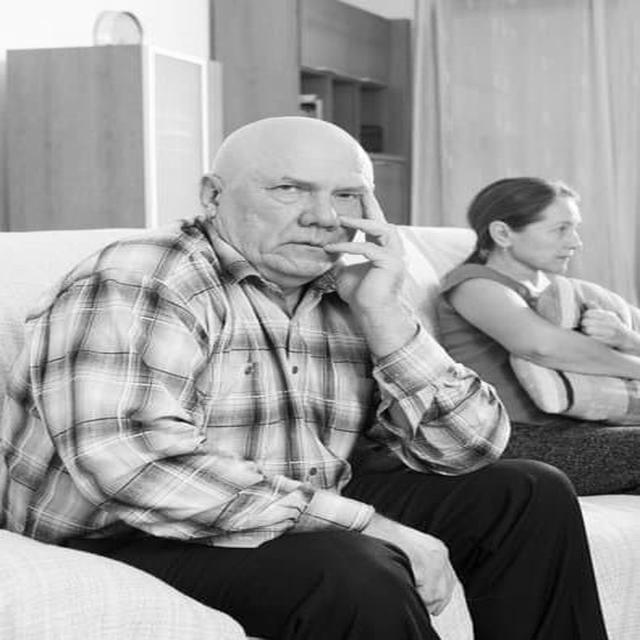Sadness: (250, 148, 361, 278)
